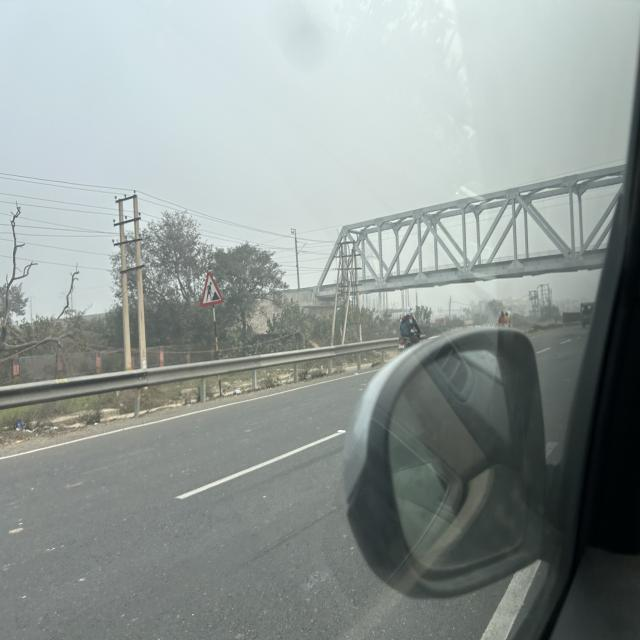WARNING: (200, 272, 224, 308)
